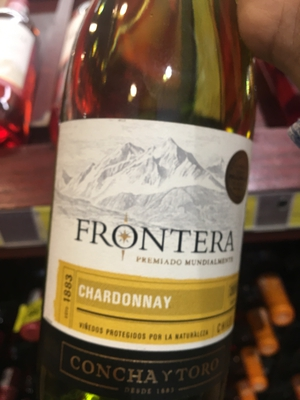frontera chardonnay: (40, 7, 266, 393)
